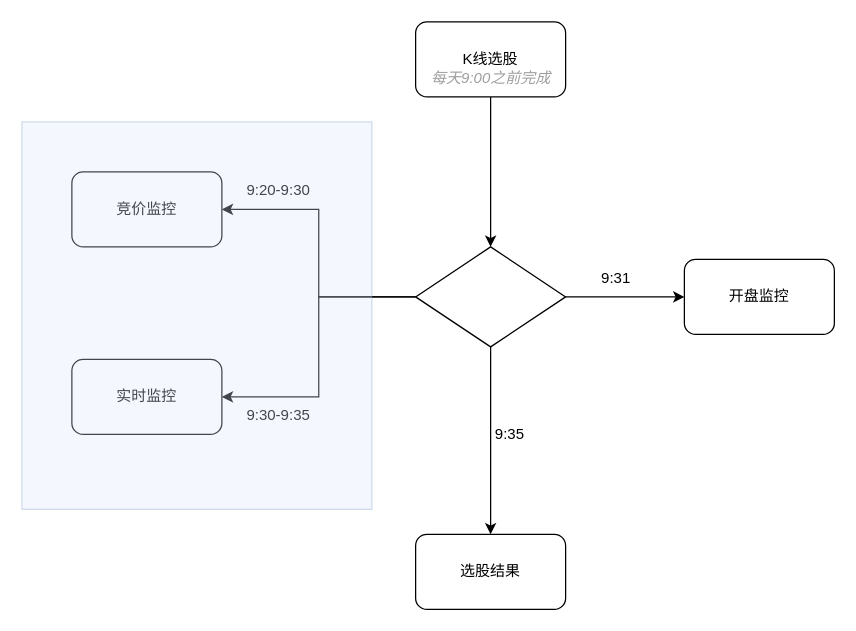
This 856x631 diagram has some shape labels left out. The centre of each missing label's shape, as x and y in pixels:
"时间" goes at (x=490, y=296).
"每分钟一次" goes at (x=196, y=315).
